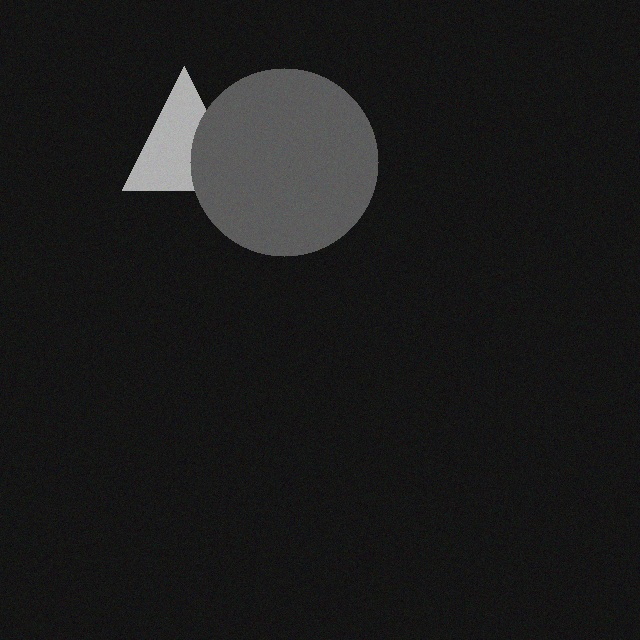circle: (181, 63, 369, 251)
triangle: (113, 61, 237, 185)
